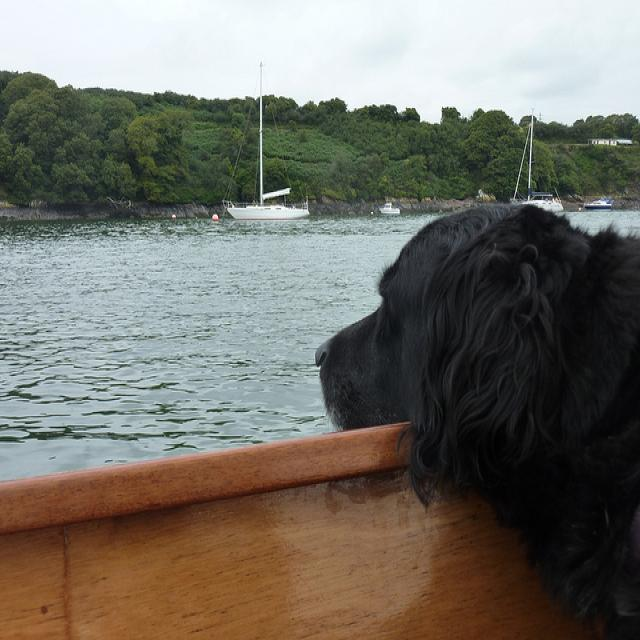houseboat: (218, 184, 314, 230)
